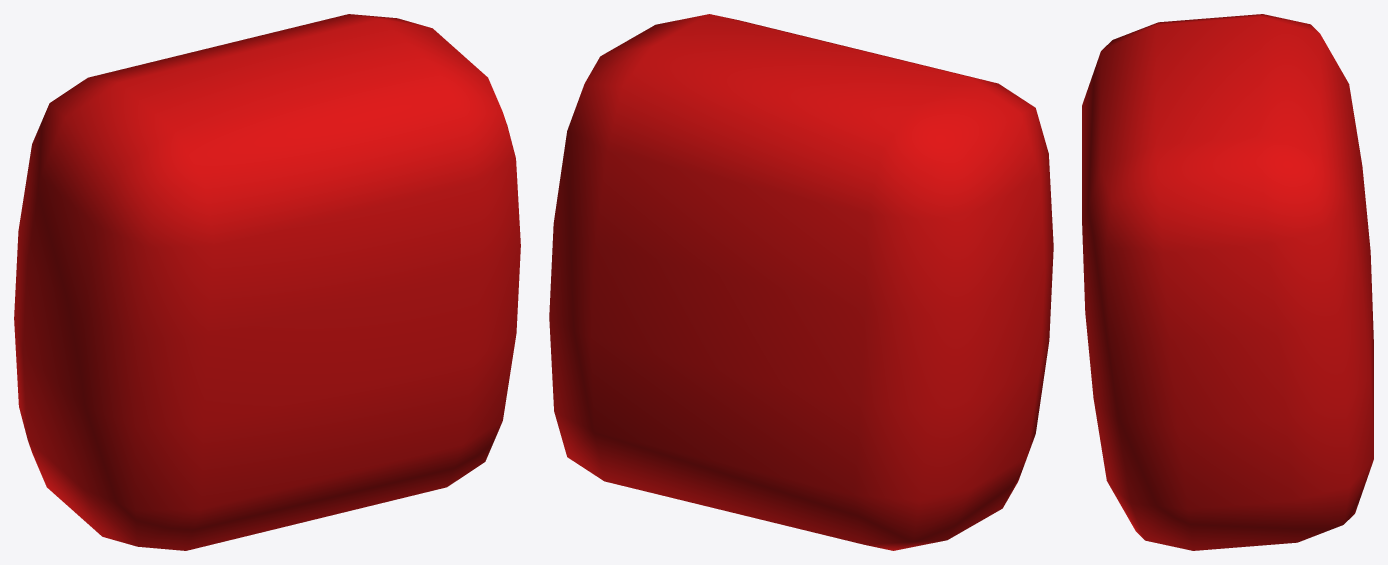
File: hero_bag.fbx
3 views of the same model, side by side, from view 1: azimuth 30°, elevation 25°; view 2: azimuth 150°, elevation 25°; view 3: azimuth 270°, elevation 25° (orthographic). The views are drawn at different scales.
Visible parts, largest first — view 1: backpack; view 2: backpack; view 3: backpack.
Part boxes in pixels (bbox=[...]): backpack: bbox=[14, 14, 520, 550]; backpack: bbox=[549, 14, 1053, 550]; backpack: bbox=[1082, 14, 1373, 550].
Size of the model in its own units: 53.38 by 52.27 by 33.58.
